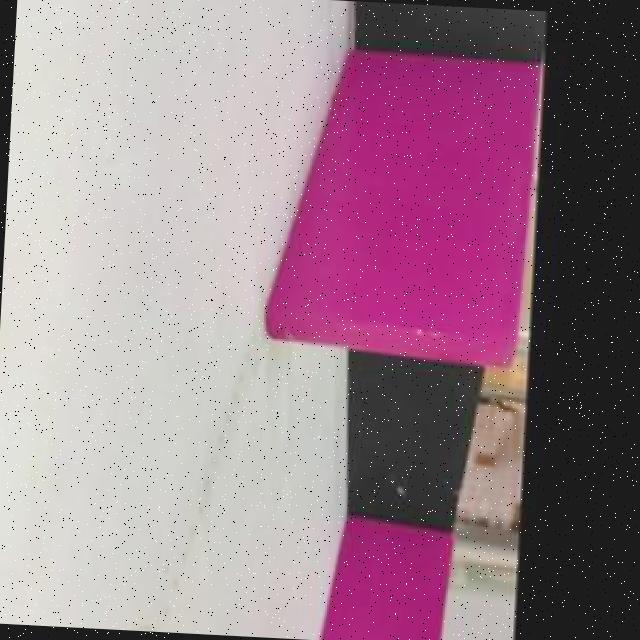xparking: (298, 53, 527, 356), (319, 522, 439, 640)
